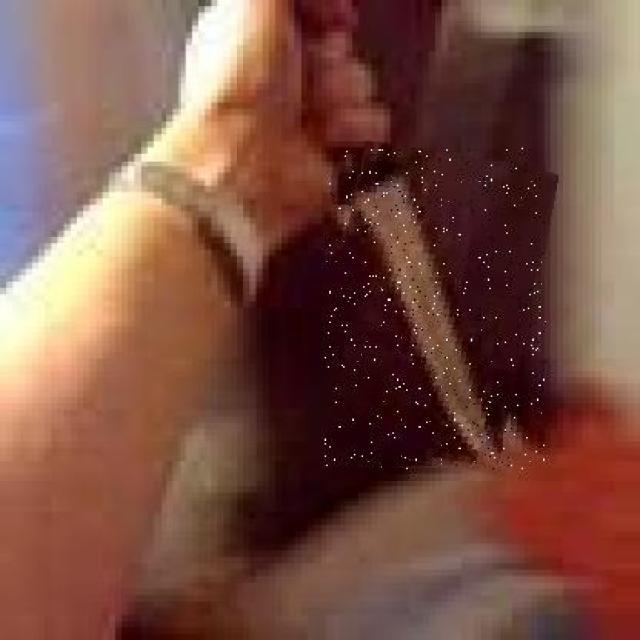knife: (324, 148, 546, 470)
